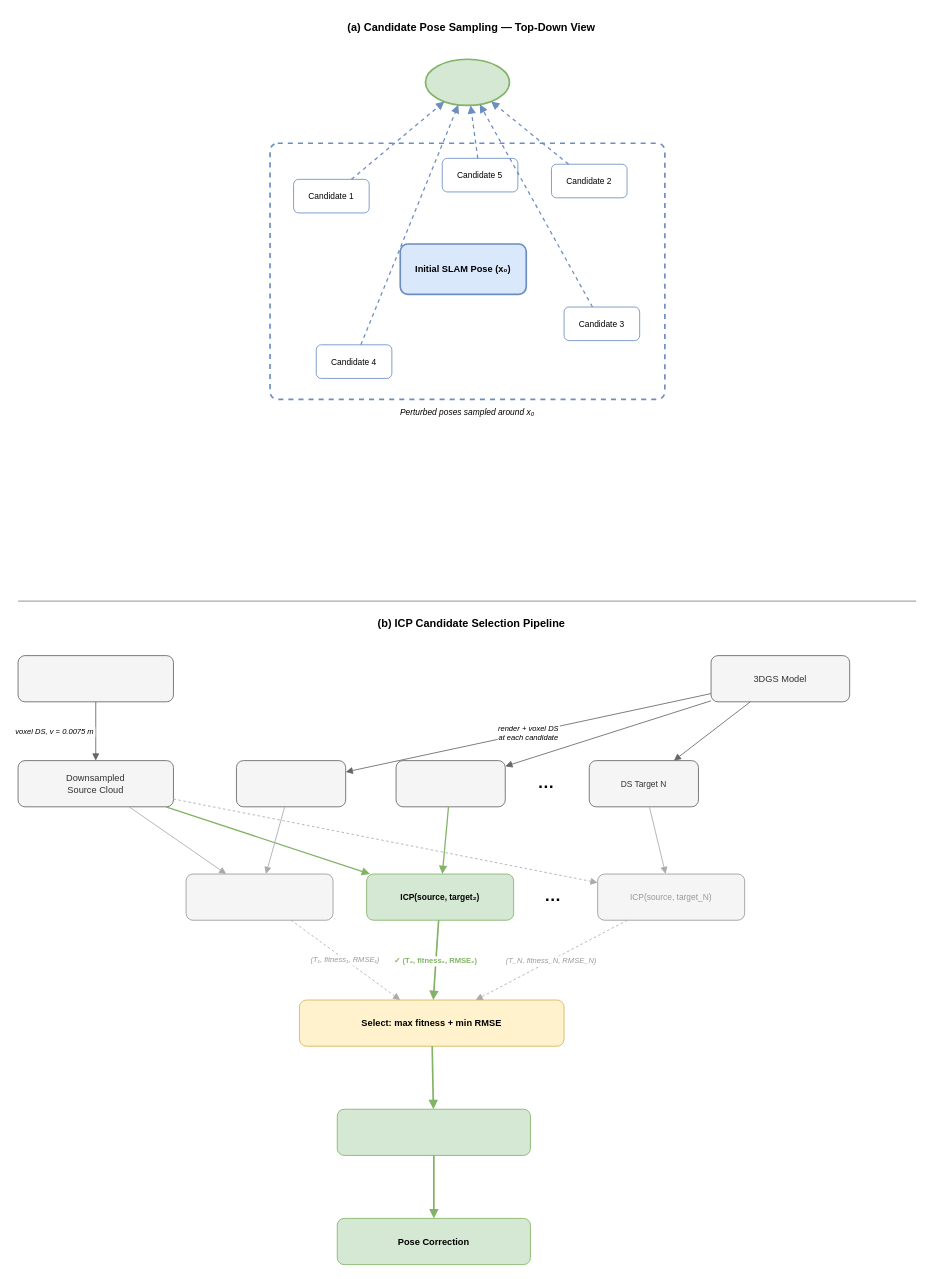
Some shapes in this 932 by 1279 pixel diagram are drawn without their labels. The centre of each missing label's shape, as x and y in pixels:
"Best Transformation T*" goes at (433,1131).
"DS Target 1" goes at (291,783).
"DS Target 2" goes at (450,783).
"ICP(source, target₁)" goes at (259,896).
"Source Cloud (stereo / LiDAR)" goes at (95,678).
"Vine Trunk" goes at (467,82).
